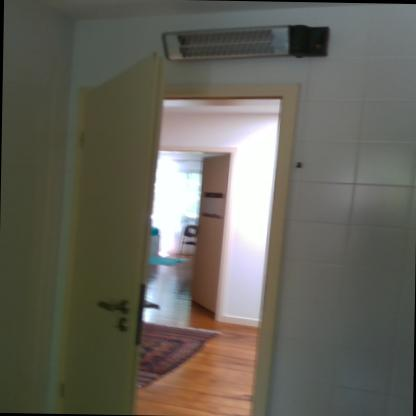semi: (62, 47, 302, 415)
